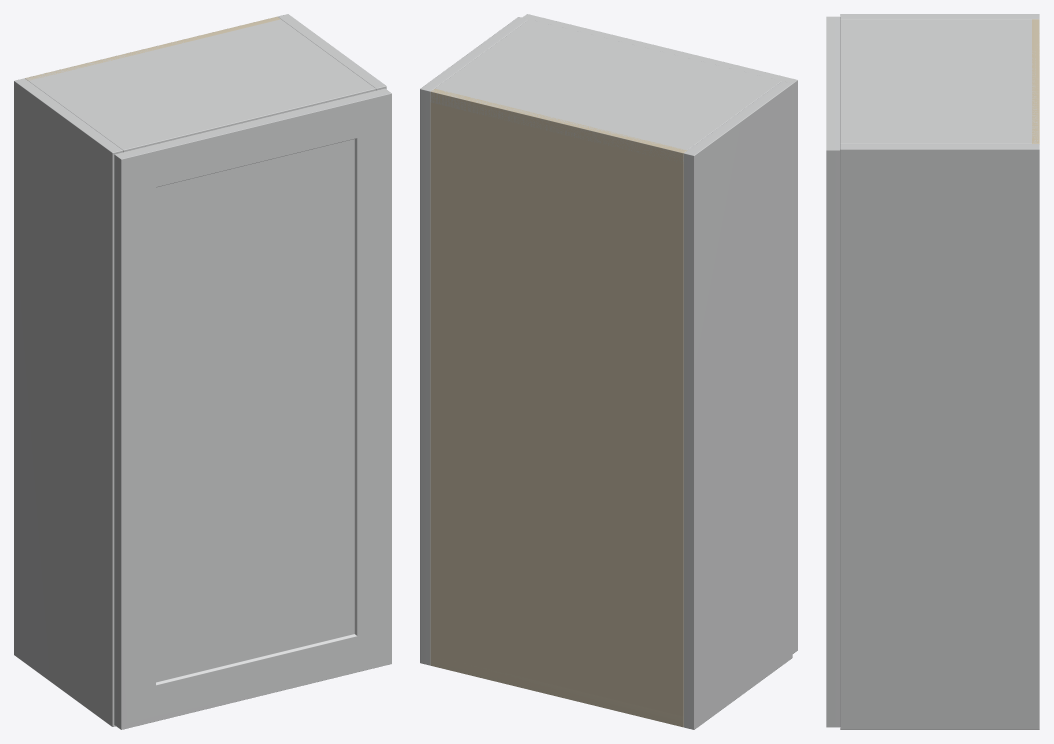
The model's file is PLY-WSS-W1836.glb.
The picture shows the model from 3 angles, left to right: view 1: azimuth 30°, elevation 25°; view 2: azimuth 150°, elevation 25°; view 3: azimuth 270°, elevation 25°; orthographic projection.
Visible parts, largest first — view 1: Shaker door, Carcass left, Carcass top, Carcass right, Carcass back; view 2: Carcass back, Carcass left, Carcass top, Carcass right, Shaker door, Carcass bottom; view 3: Carcass right, Carcass top, Shaker door, Carcass left, Carcass back.
Part boxes in pixels (x1,y1,x2,y2): Shaker door: [114, 88, 391, 729]; Carcass left: [14, 78, 122, 726]; Carcass top: [25, 17, 375, 152]; Carcass right: [278, 14, 386, 90]; Carcass back: [25, 16, 280, 80]; Carcass back: [430, 89, 686, 727]; Carcass left: [683, 81, 792, 729]; Carcass top: [430, 19, 781, 161]; Carcass right: [420, 17, 528, 665]; Shaker door: [522, 14, 797, 653]; Carcass bottom: [431, 657, 683, 726]; Carcass right: [840, 144, 1039, 729]; Carcass top: [840, 19, 1039, 143]; Shaker door: [826, 16, 840, 727]; Carcass left: [840, 14, 1039, 19]; Carcass back: [1032, 19, 1039, 143].
Bounding box in the file's own units: 0.4572 × 0.9144 × 0.3048.
